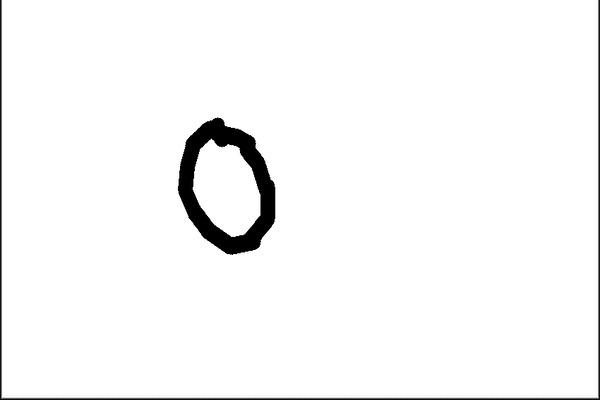O: (164, 106, 282, 261)
